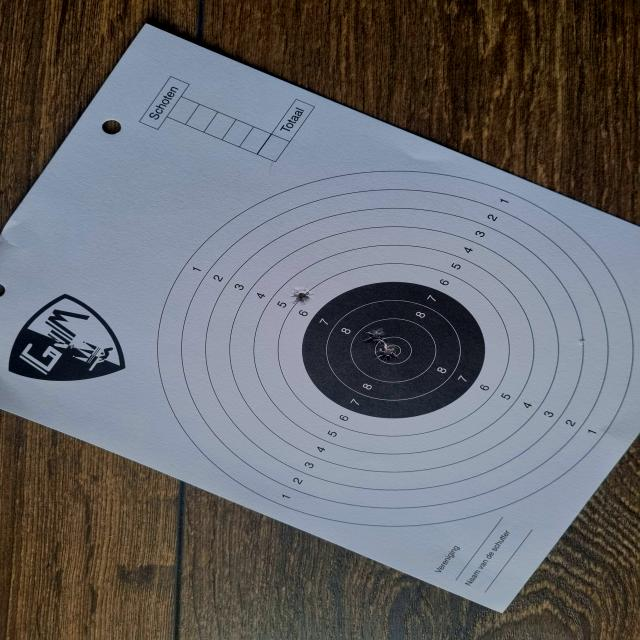10: (362, 327, 389, 344), (374, 343, 398, 362)
6: (292, 290, 312, 304)
Target: (151, 171, 626, 531)
black_contour: (306, 278, 492, 423)
